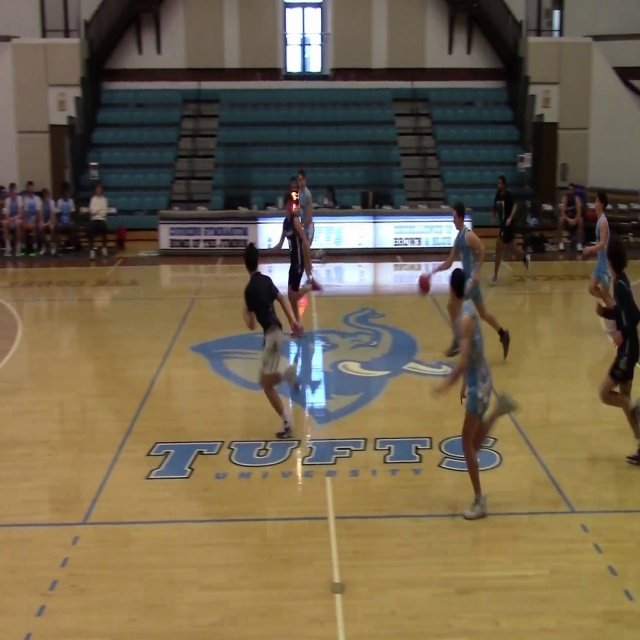Basketball: (418, 273, 431, 294)
